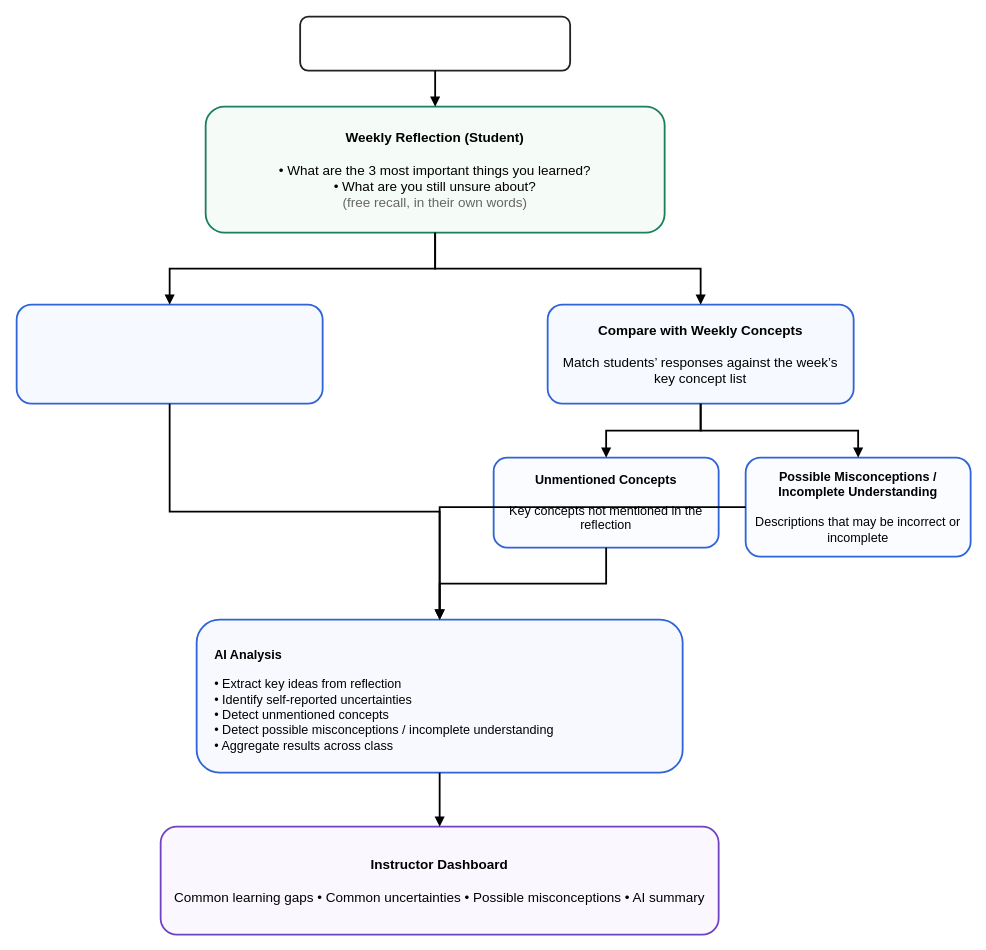
The diagram is 986 pixels wide and 950 high, and some of its shapes have lost their labels. Each missing label, with the centre of its shape:
Lecture, Week N: point 435,43
Self-Reported Uncertainties Students list what they are not confident about: point 169,353
